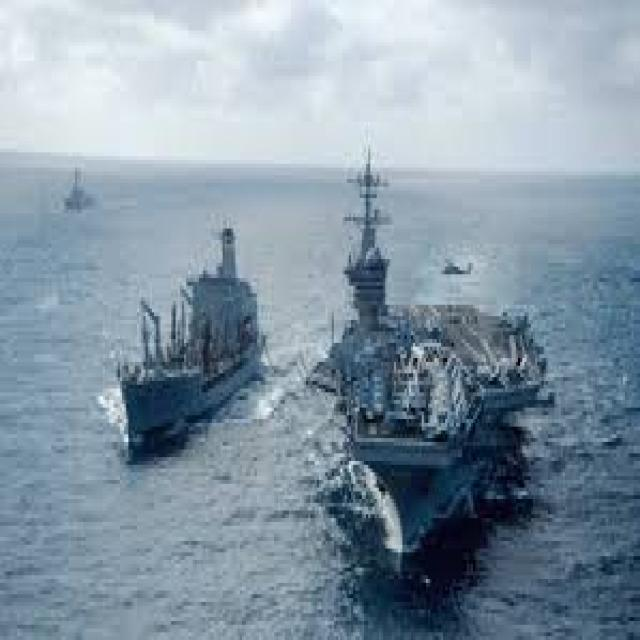navalvessels: (304, 155, 549, 596), (80, 217, 286, 438), (62, 158, 98, 232)
